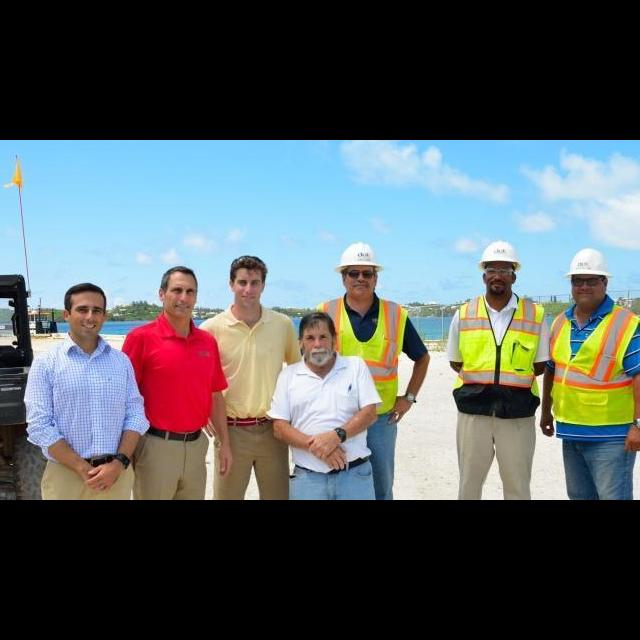Hardhat: (334, 244, 386, 271), (565, 249, 612, 274), (479, 238, 520, 265)
NO-Hardhat: (227, 255, 270, 272), (64, 282, 106, 298), (299, 312, 334, 331), (162, 265, 197, 283)
NO-Mask: (574, 289, 606, 309), (165, 304, 195, 322), (348, 283, 376, 300), (76, 322, 104, 338), (482, 281, 511, 295), (237, 292, 260, 308)
NO-Safety Vest: (284, 357, 369, 472), (44, 346, 125, 454), (139, 324, 213, 434), (213, 313, 286, 419)
Person: (316, 243, 433, 500), (23, 282, 149, 500), (120, 265, 232, 500), (200, 254, 306, 500), (449, 237, 548, 500), (541, 245, 640, 500), (269, 310, 380, 500)
Safety Vest: (551, 305, 640, 426), (319, 297, 408, 411), (455, 295, 544, 405)
